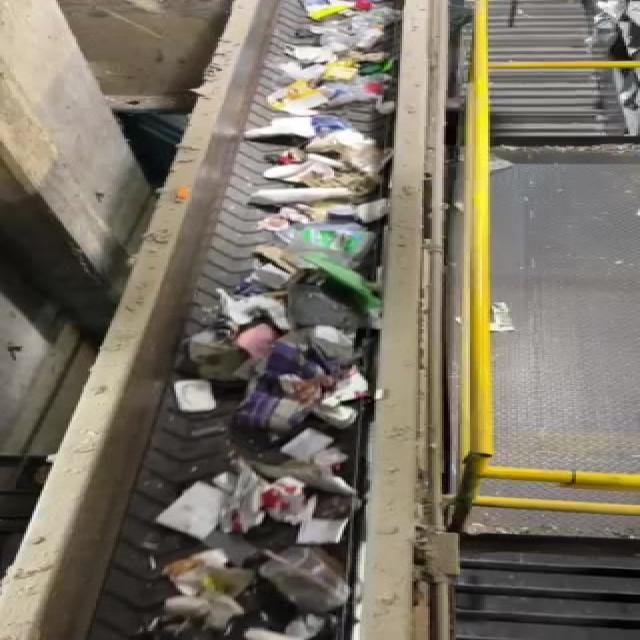paper: (158, 599, 260, 623)
pp: (268, 550, 376, 614), (175, 482, 241, 542), (295, 504, 355, 544), (284, 429, 344, 467)
